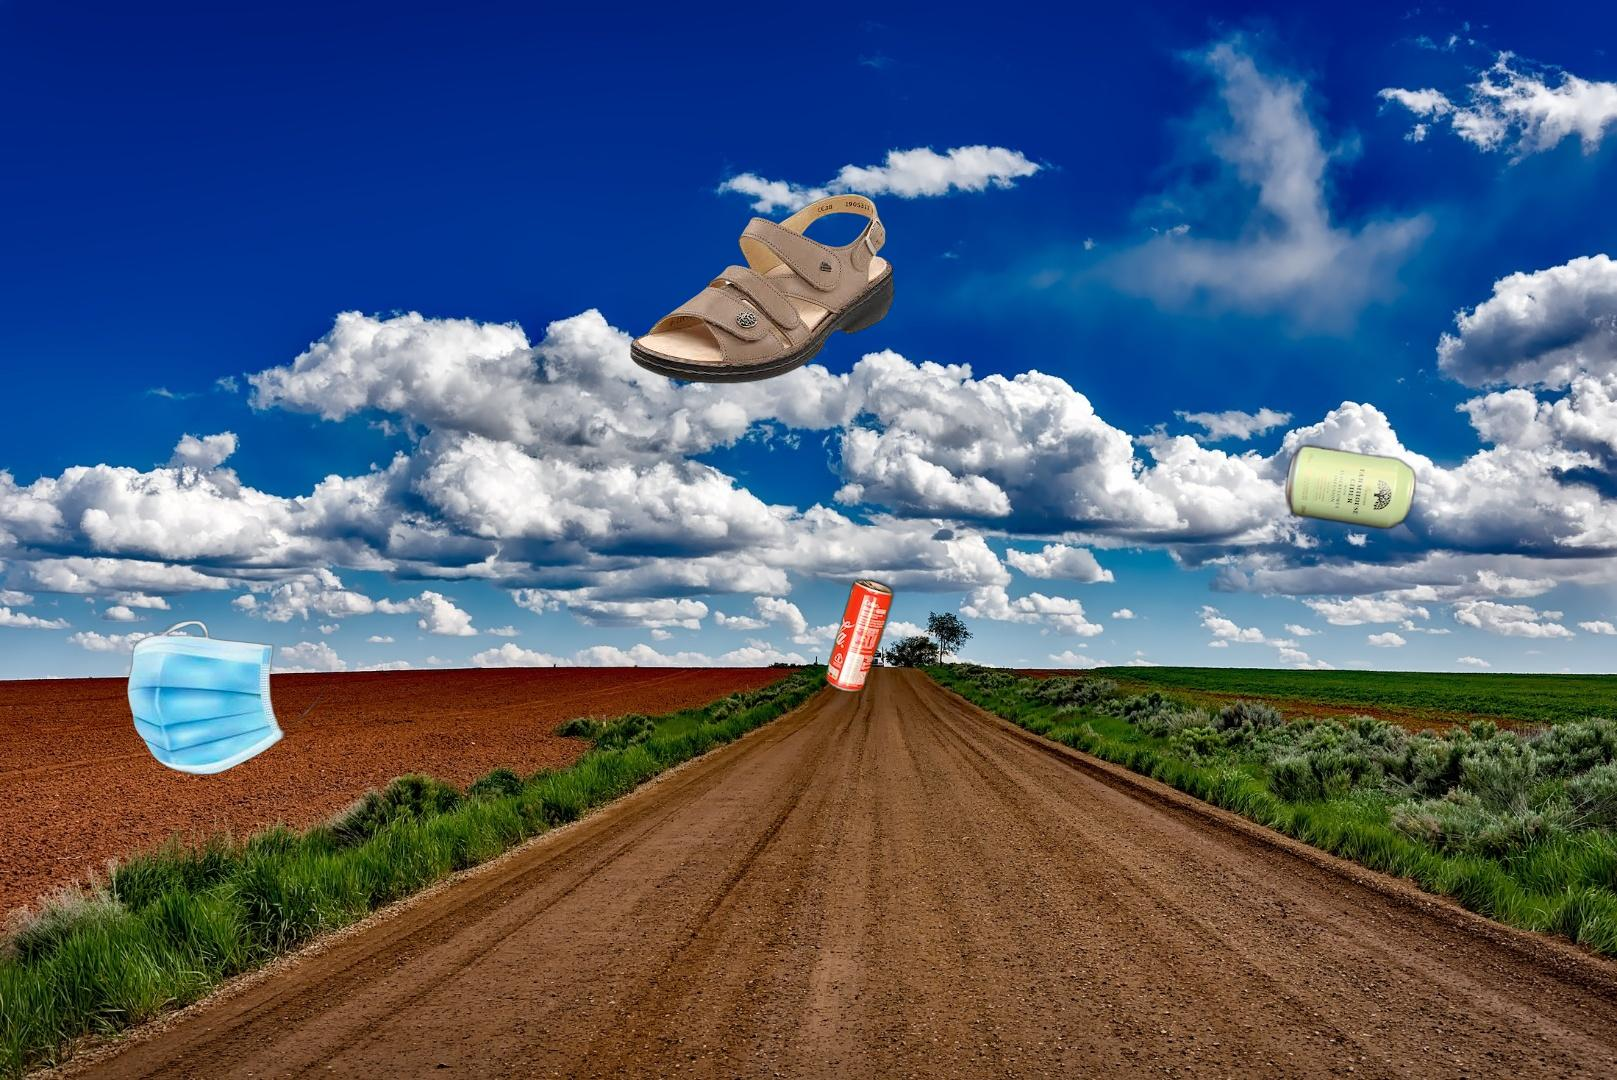metal-cans: (1282, 440, 1436, 829), (821, 573, 899, 698)
shoes: (630, 194, 895, 385)
trash: (124, 618, 334, 779)
